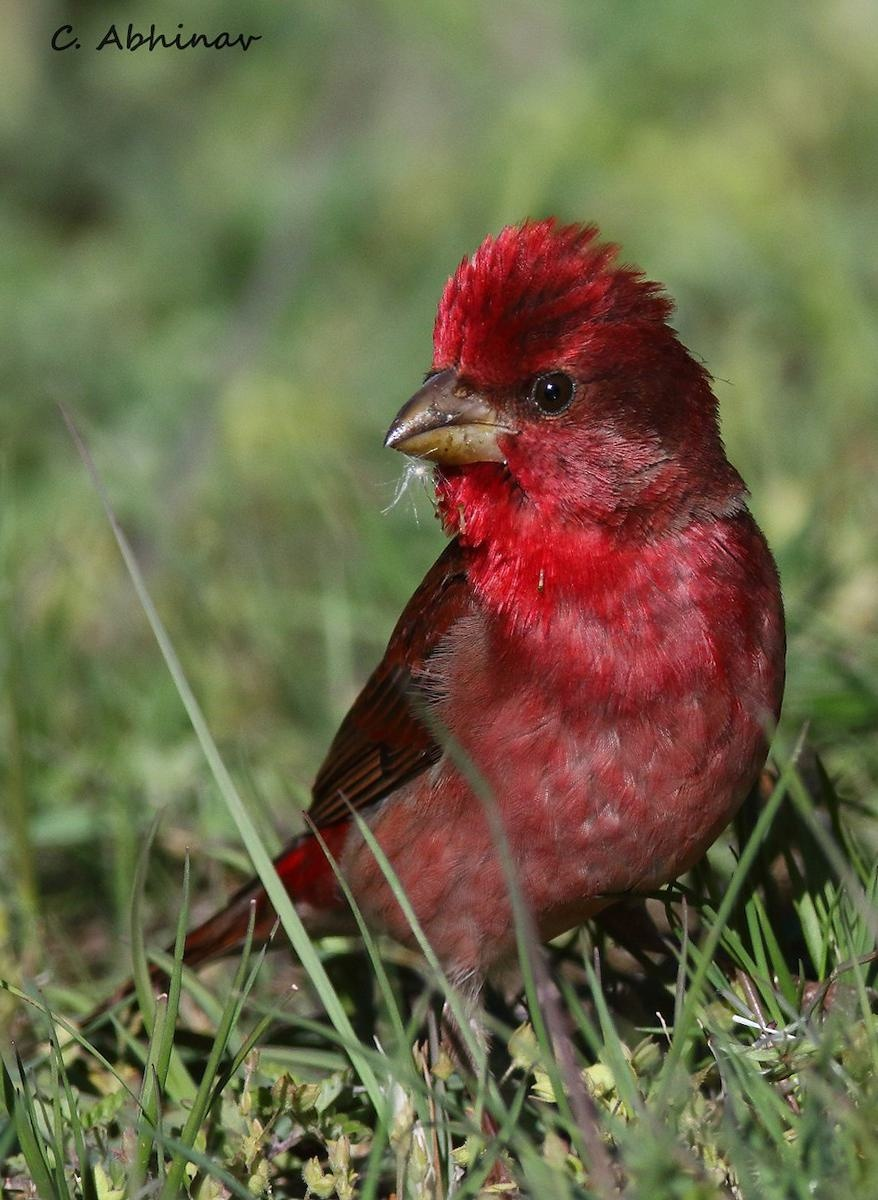rosefinch: (349, 196, 748, 983)
